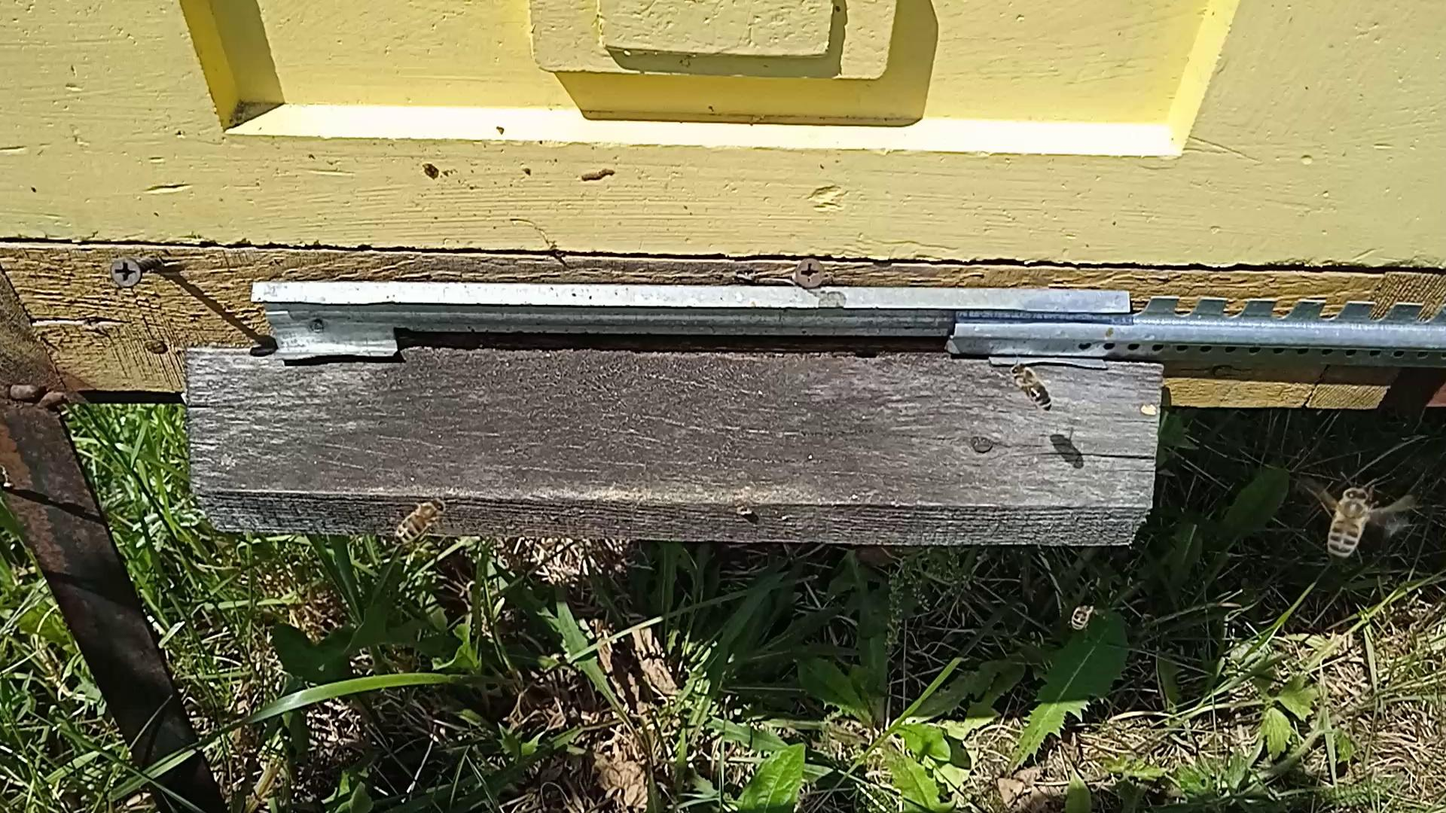worker-bee: (1327, 485, 1373, 559), (395, 497, 449, 541), (1008, 362, 1053, 411), (1069, 601, 1096, 632)
